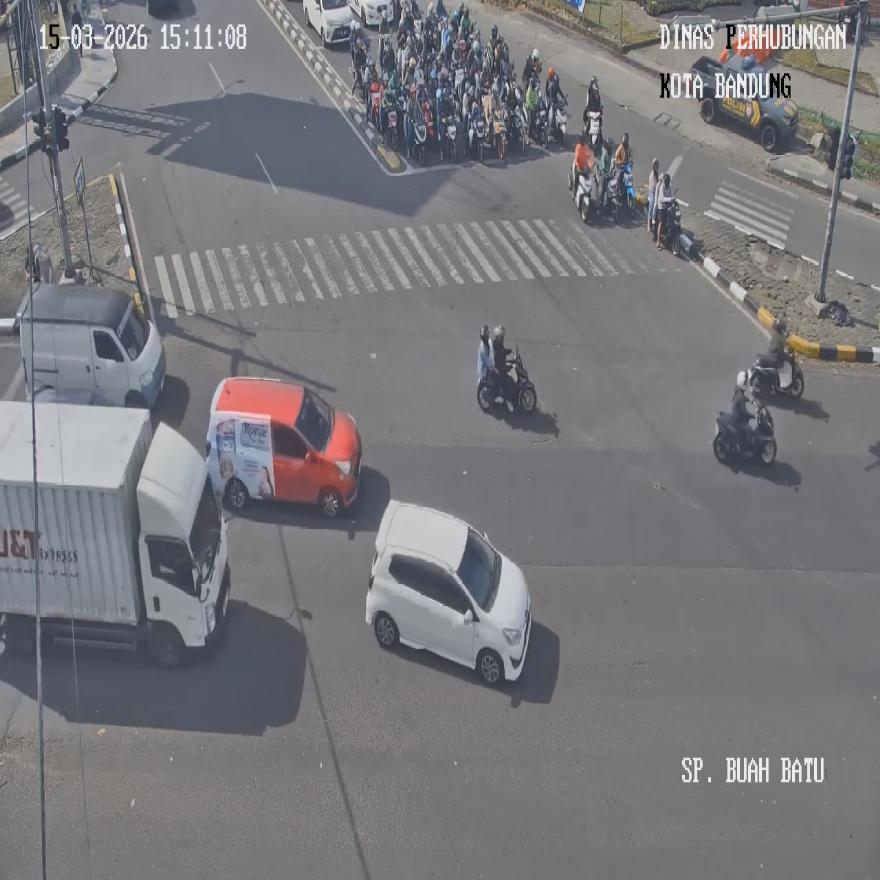Bis mini: (20, 282, 166, 408)
Mobil: (365, 500, 532, 686), (206, 379, 363, 517)
Motor: (713, 399, 776, 465), (748, 346, 805, 399), (511, 346, 536, 413), (568, 165, 593, 223), (660, 195, 681, 255), (601, 168, 621, 223), (506, 106, 527, 155), (530, 101, 549, 147), (623, 163, 637, 218), (441, 117, 458, 162), (492, 109, 507, 160), (586, 110, 602, 157), (469, 117, 485, 162), (367, 80, 382, 128), (553, 98, 567, 147), (385, 106, 400, 151), (414, 117, 427, 166), (350, 63, 364, 97), (519, 101, 530, 144), (423, 102, 435, 141), (454, 68, 465, 100)
Truk menengah: (0, 402, 231, 665)
